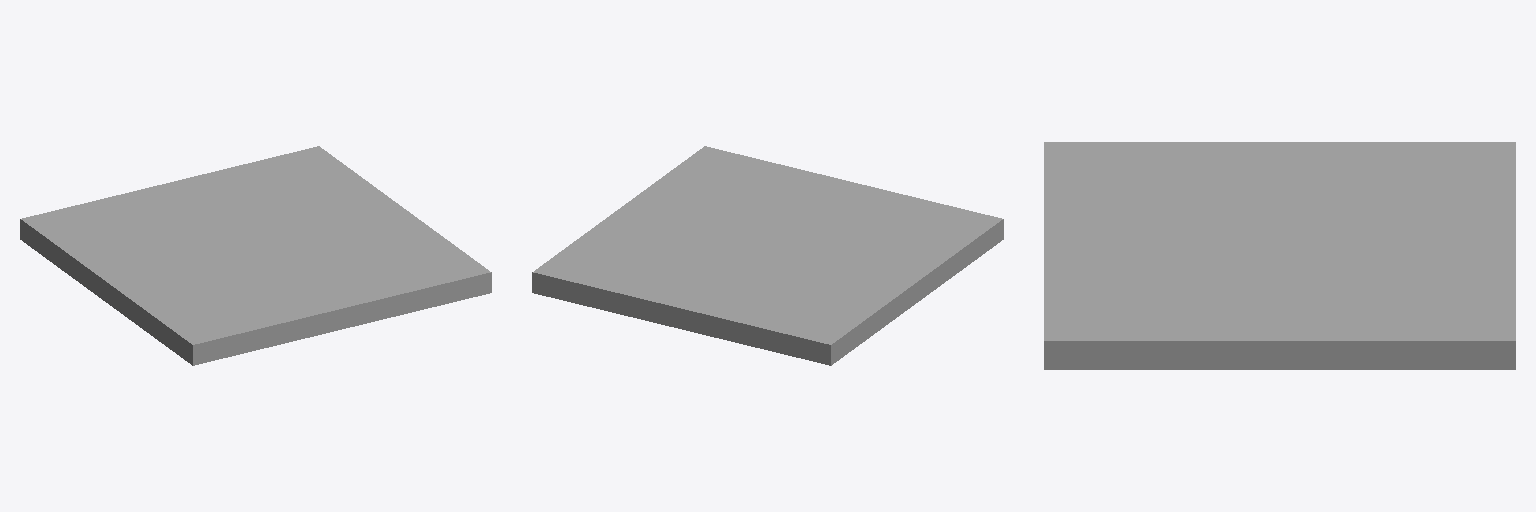
The robot description file, URDF, robot "box_goal":
<?xml version="1.0"?>
<!-- Generated by make_models.py; extents match cuTAMP's ENTITIES cuboid. -->
<robot name="box_goal">
  <link name="base_link">
    <inertial>
      <origin xyz="0 0 0"/>
      <mass value="1.0"/>
      <inertia ixx="0.0018833333333333332" ixy="0" ixz="0" iyy="0.0018833333333333332" iyz="0" izz="0.00375"/>
    </inertial>
    <visual>
      <origin xyz="0 0 0"/>
      <geometry><box size="0.15 0.15 0.01"/></geometry>
      <material name="grey"><color rgba="0.7 0.7 0.7 1"/></material>
    </visual>
    <collision>
      <origin xyz="0 0 0"/>
      <geometry><box size="0.15 0.15 0.01"/></geometry>
    </collision>
  </link>
</robot>

--- Render facts (derived) ---
Views: 3 orthographic renders of the robot side by side, from view 1: azimuth 30°, elevation 25°; view 2: azimuth 150°, elevation 25°; view 3: azimuth 270°, elevation 25°.
Robot: box_goal — 1 links, 0 joints (none); root link base_link; default pose: every joint at zero.
Visible links, largest first — view 1: base_link; view 2: base_link; view 3: base_link.
Boxes of the visible links, left/top/right/bottom form: base_link: left=20, top=146, right=491, bottom=365; base_link: left=532, top=146, right=1003, bottom=365; base_link: left=1044, top=142, right=1515, bottom=369.
Size in the robot's own frame: 0.15 by 0.15 by 0.01 metres.
Geometry: primitives only (box / cylinder / sphere), no mesh files.
